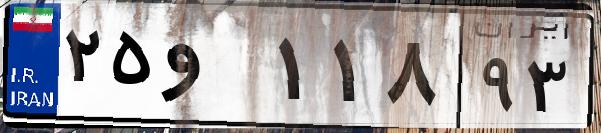1: (270, 28, 330, 110), (330, 28, 385, 110)
2: (57, 26, 110, 100)
3: (525, 38, 570, 115)
5: (110, 28, 158, 98)
8: (385, 28, 445, 110)
9: (475, 38, 525, 113)
و: (158, 20, 270, 120)
